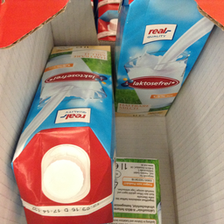milk: (11, 42, 113, 224), (114, 1, 223, 124)
